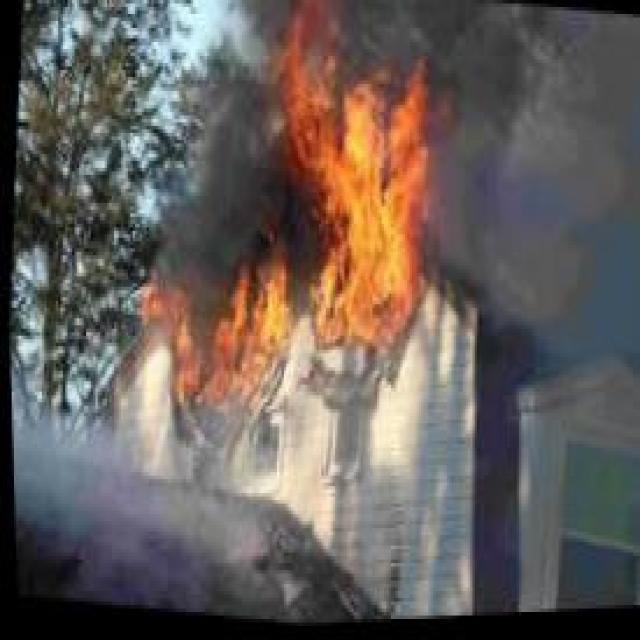Fire: (254, 0, 458, 374), (124, 196, 300, 420)
Smoke: (9, 413, 289, 619), (154, 0, 270, 252)
